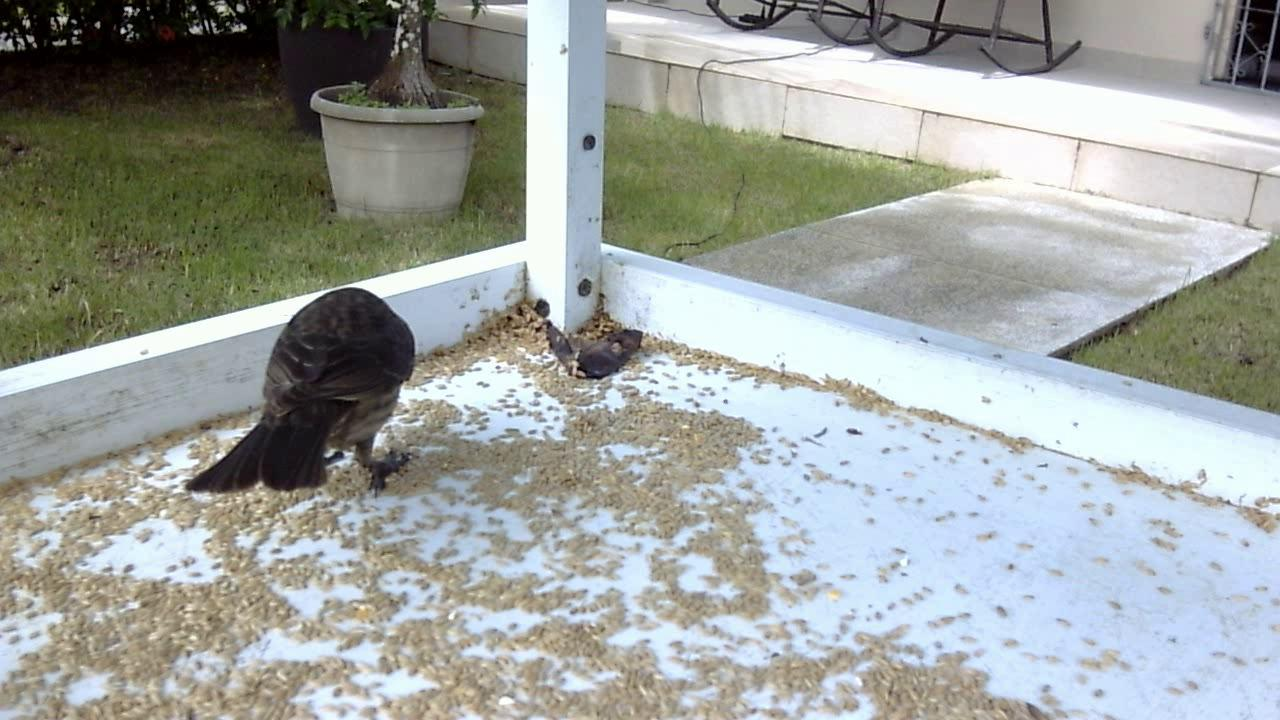chupim: (181, 274, 427, 501)
